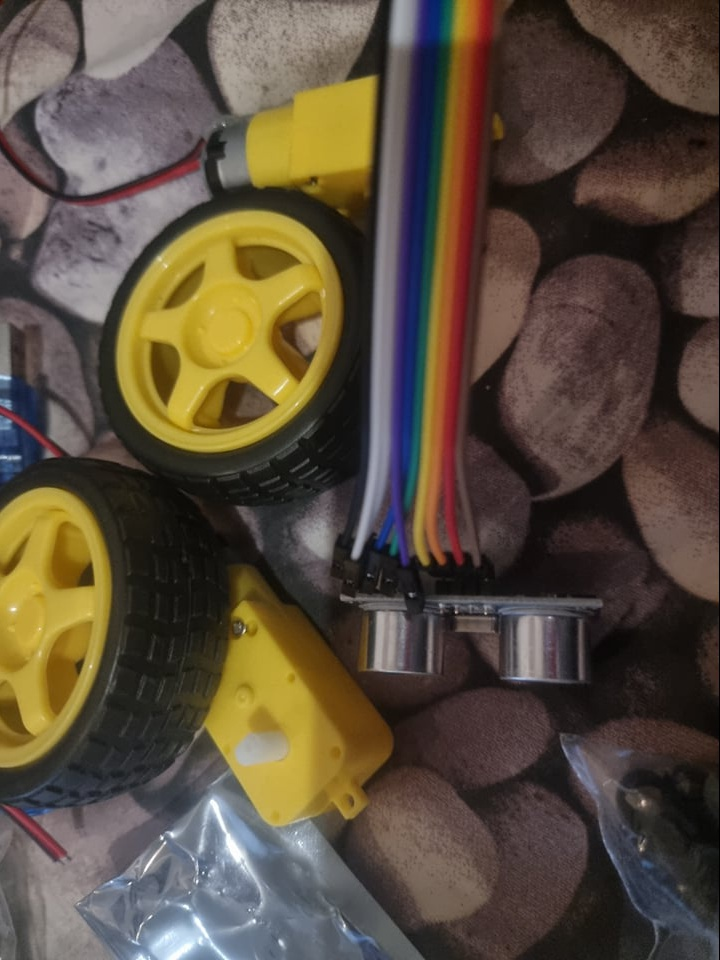SENSOR: (336, 593, 613, 692)
